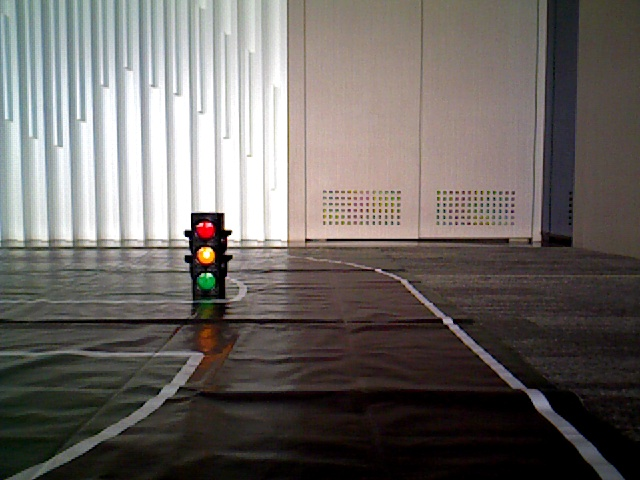yellow: (191, 216, 220, 290)
